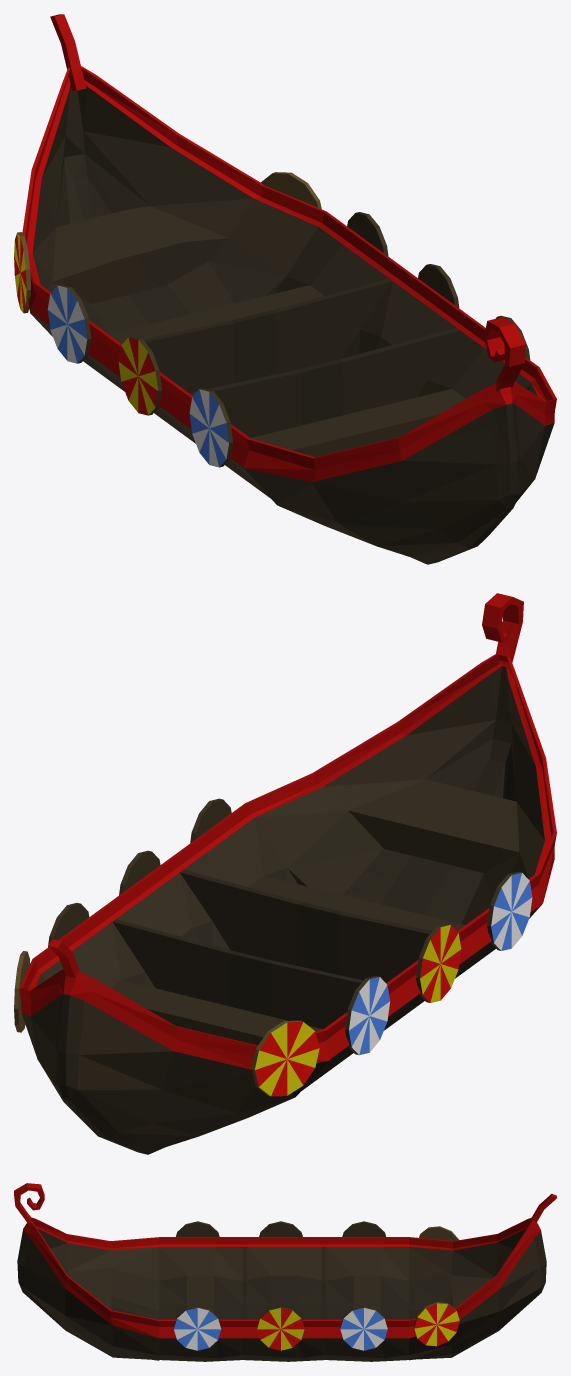
File: Ship_01.fbx
3 renders of one model, top to bottom at view 1: azimuth 30°, elevation 25°; view 2: azimuth 150°, elevation 25°; view 3: azimuth 270°, elevation 25°, orthographic. The views are drawn at different scales.
Visible parts, largest first — view 1: Ship_01; view 2: Ship_01; view 3: Ship_01.
Boxes of the visible parts, x1,y1,x2,y2 form: Ship_01: (14,14,556,564); Ship_01: (14,593,556,1154); Ship_01: (14,1183,556,1361).
Bounding box in the file's own units: 935 × 875 × 2478.
